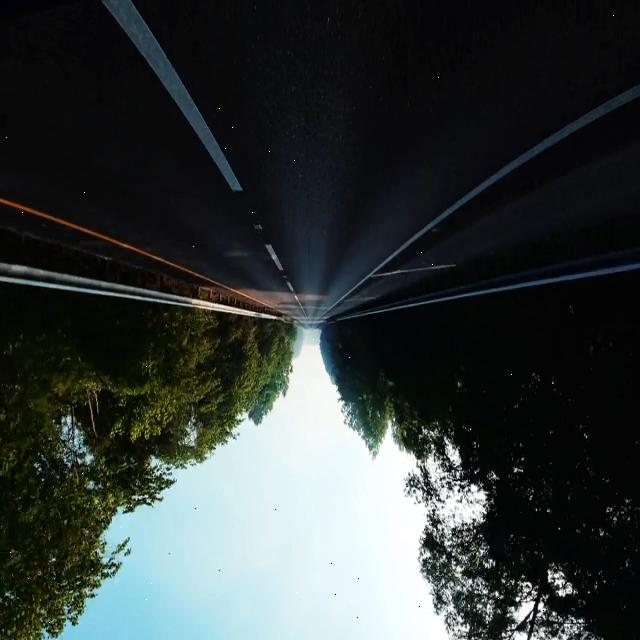lane: (324, 83, 640, 316), (102, 0, 242, 190), (0, 197, 258, 299), (265, 246, 284, 273)
road: (2, 3, 639, 319)
